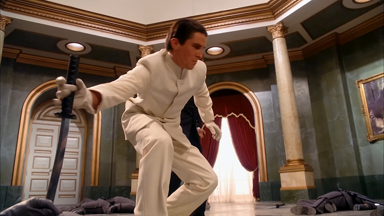bladed_weapon: (44, 51, 82, 203)
